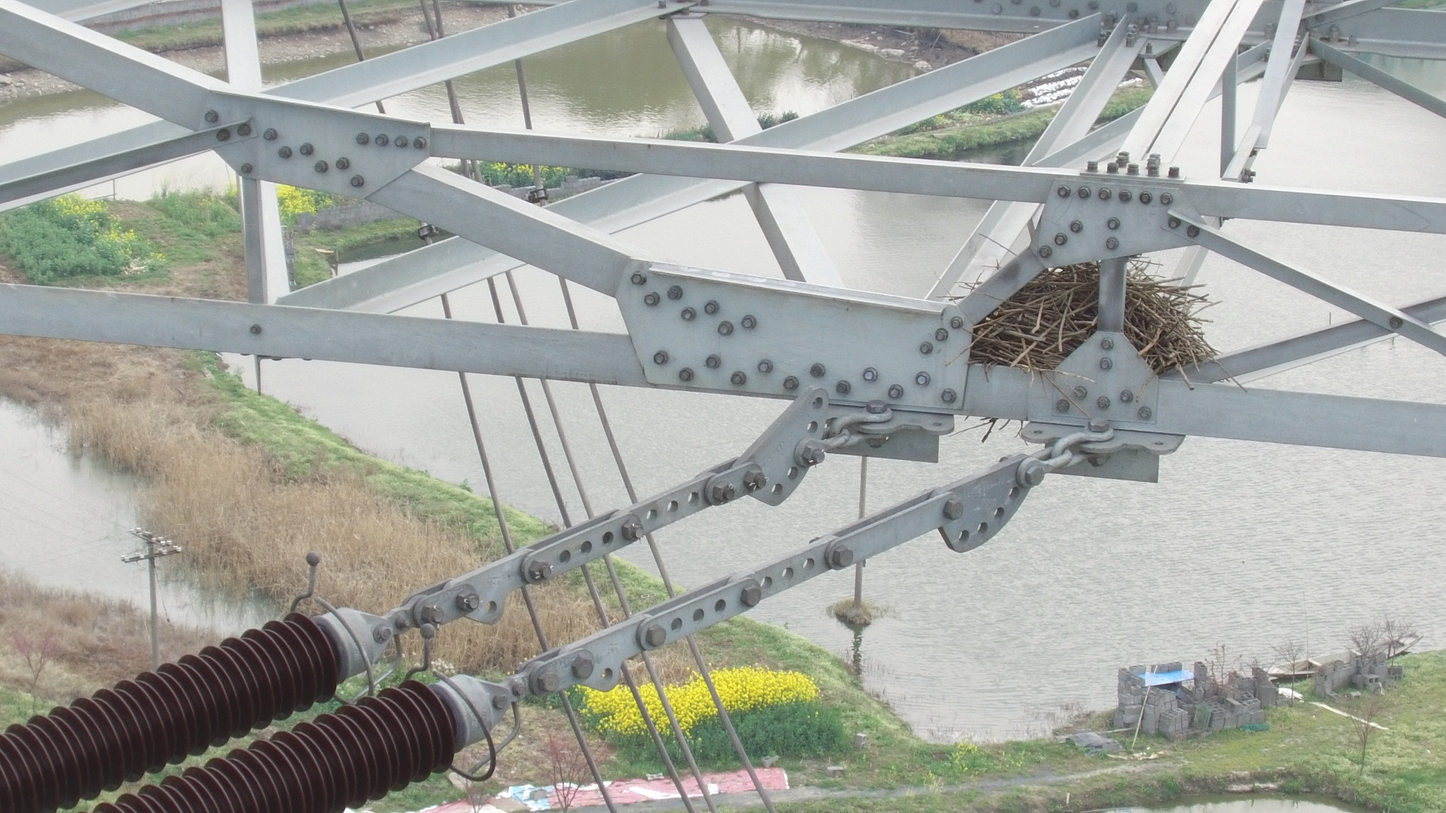insulator: (1, 604, 468, 813)
